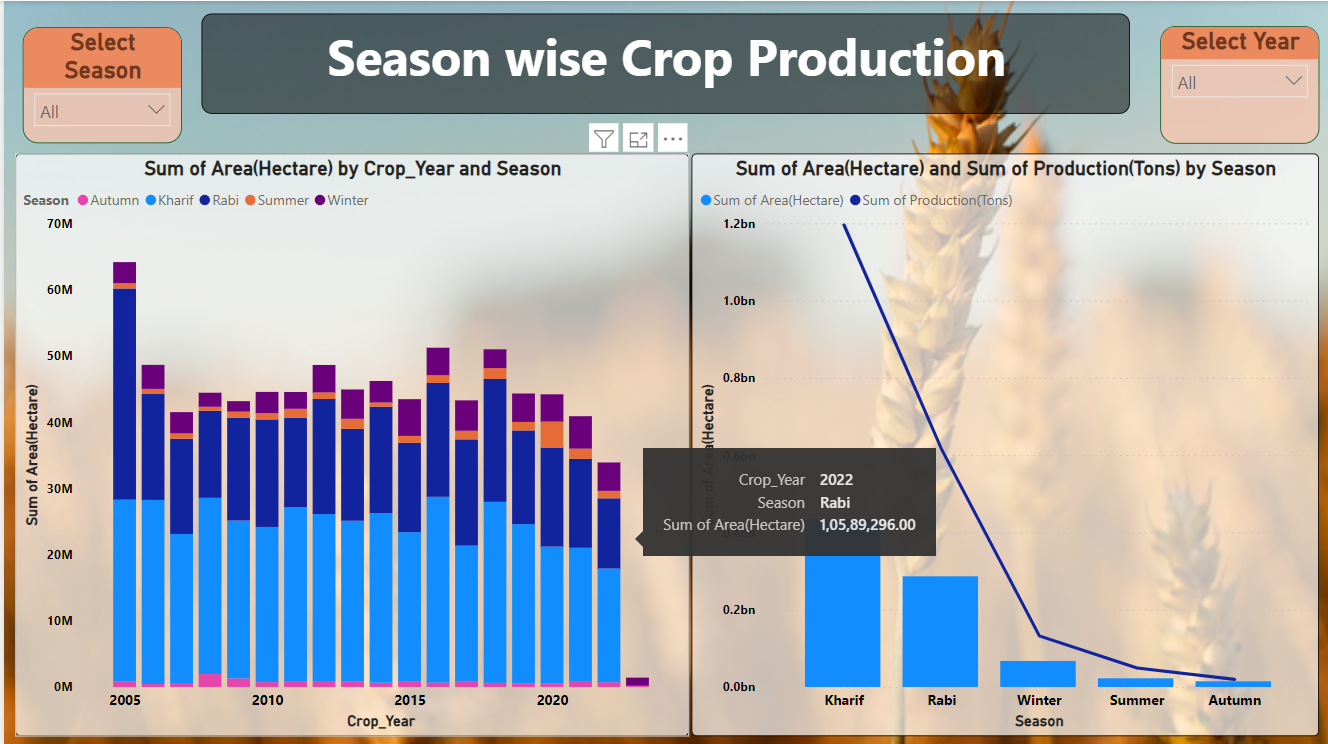

Layout of this report page (visuals, bound fields, positions):
{"tool":"powerbi","page":{"name":"Season wise crop Production","canvas":[1280,720],"ordinal":5},"visuals":[{"type":"textbox","box":[190.6,12.1,896.4,96.5],"z":0},{"type":"slicer","title":"Select Year","fields":{"Values":["apy_1.Crop_Year"]},"box":[1116,24.1,153.2,113.4],"z":1000},{"type":"slicer","title":"Select Season","fields":{"Values":["apy_1.Season"]},"box":[18.1,25.3,153.2,112.2],"z":2000},{"type":"columnChart","fields":{"Category":["apy_1.Crop_Year"],"Y":["Sum(apy_1.Area(Hectare))"],"Series":["apy_1.Season"]},"box":[10.9,147.2,650.3,562.2],"z":3000},{"type":"lineStackedColumnComboChart","fields":{"Y2":["Sum(apy_1.Production(Tons))"],"Y":["Sum(apy_1.Area(Hectare))"],"Category":["apy_1.Season"]},"box":[663.5,147.2,605.6,562.2],"z":4000}]}

Visuals, with their boxes in screenshot pixels (x1, y1, x2, y2), scaled from the page's 1280x720 canvas onto the 1328x744 screenshot:
textbox: x1=198, y1=13, x2=1128, y2=112
"Select Year" slicer: x1=1158, y1=25, x2=1317, y2=142
"Select Season" slicer: x1=19, y1=26, x2=178, y2=142
columnChart - apy_1.Crop_Year x Sum(apy_1.Area(Hectare)): x1=11, y1=152, x2=686, y2=733
lineStackedColumnComboChart - Sum(apy_1.Production(Tons)) x Sum(apy_1.Area(Hectare)): x1=688, y1=152, x2=1317, y2=733
